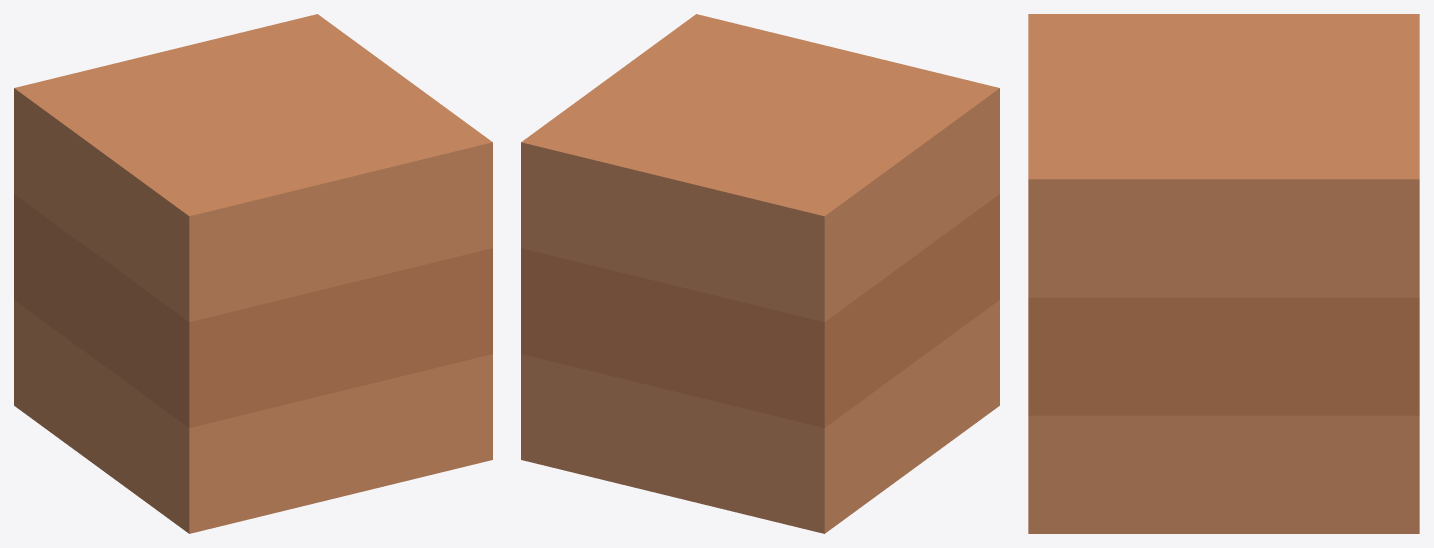
Rendered from normal_tile_middle_center.glb.
The picture shows the model from 3 angles, left to right: view 1: azimuth 30°, elevation 25°; view 2: azimuth 150°, elevation 25°; view 3: azimuth 270°, elevation 25°; orthographic projection. The views are drawn at different scales.
Visible parts, largest first — view 1: tile_middle_center; view 2: tile_middle_center; view 3: tile_middle_center.
Boxes of the visible parts, x1=… form: tile_middle_center: x1=14, y1=14, x2=492, y2=533; tile_middle_center: x1=521, y1=14, x2=999, y2=533; tile_middle_center: x1=1028, y1=14, x2=1419, y2=533.
Bounding box in the file's own units: 0.5 × 0.5 × 0.5.
